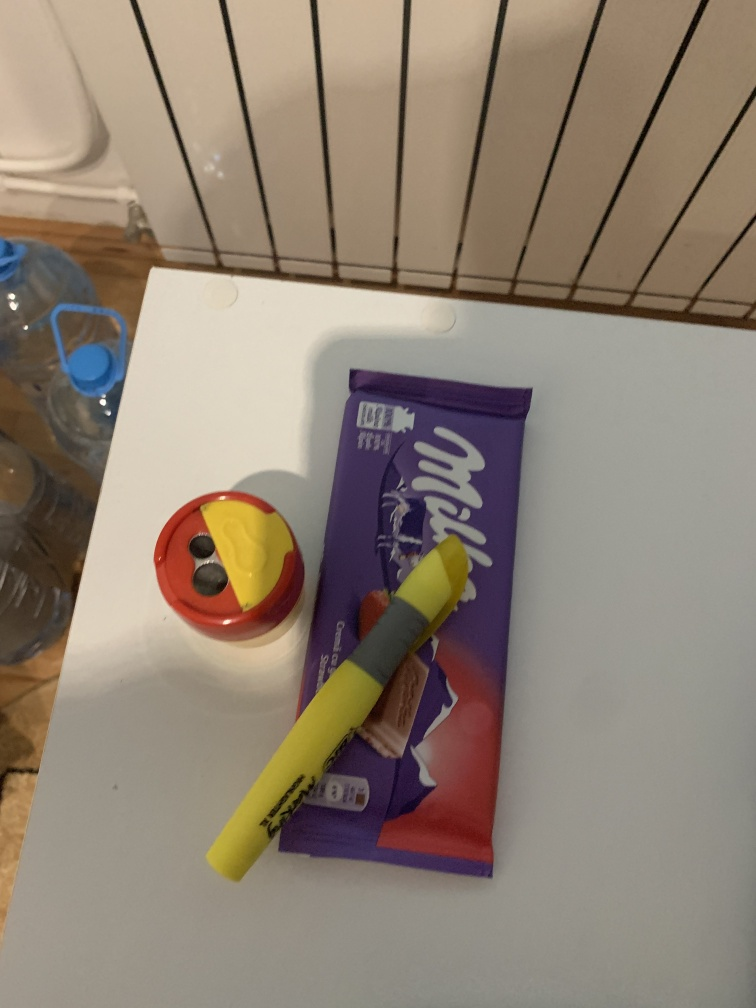milka: (275, 366, 536, 897)
